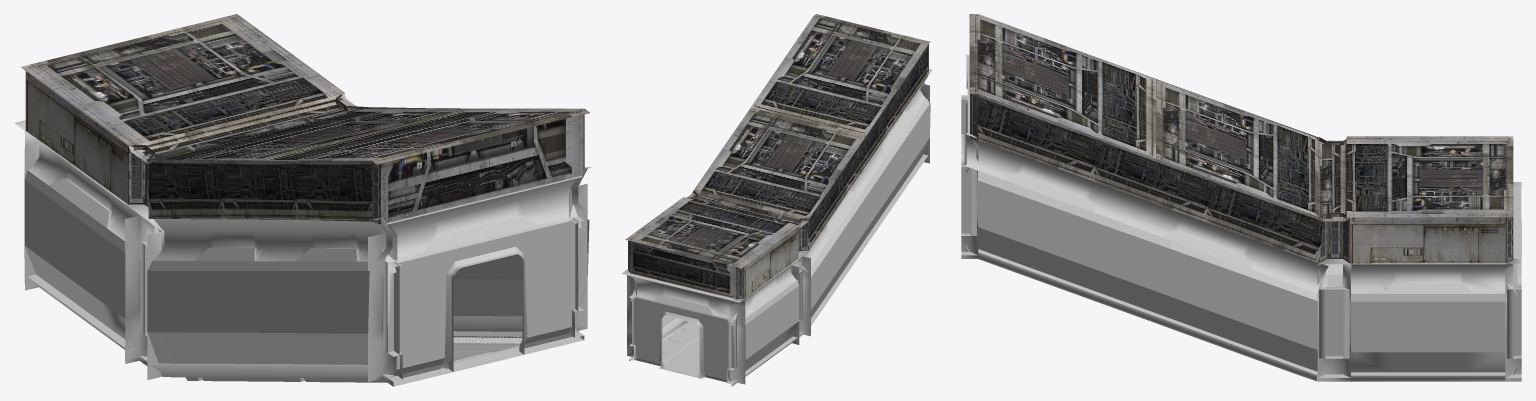
File: ARC_CorridorRamp.FBX
The picture shows the model from 3 angles, left to right: view 1: azimuth 30°, elevation 25°; view 2: azimuth 150°, elevation 25°; view 3: azimuth 270°, elevation 25°; orthographic projection. The views are drawn at different scales.
Parts seen in each view (by area): view 1: ARC_CorridorRamp_Walls, ARC_CorridorRamp_Ceiling, ARC_CorridorRamp_Floor; view 2: ARC_CorridorRamp_Ceiling, ARC_CorridorRamp_Walls, ARC_CorridorRamp_Floor; view 3: ARC_CorridorRamp_Ceiling, ARC_CorridorRamp_Walls.
Boxes of the visible parts, <box> form: ARC_CorridorRamp_Walls: <box>14,120,591,386</box>; ARC_CorridorRamp_Ceiling: <box>21,14,589,224</box>; ARC_CorridorRamp_Floor: <box>161,331,583,386</box>; ARC_CorridorRamp_Ceiling: <box>625,14,930,299</box>; ARC_CorridorRamp_Walls: <box>621,69,932,386</box>; ARC_CorridorRamp_Floor: <box>662,320,699,375</box>; ARC_CorridorRamp_Ceiling: <box>969,14,1513,263</box>; ARC_CorridorRamp_Walls: <box>961,54,1521,381</box>.
Bounding box in the file's own units: 577 × 968 × 1655.
